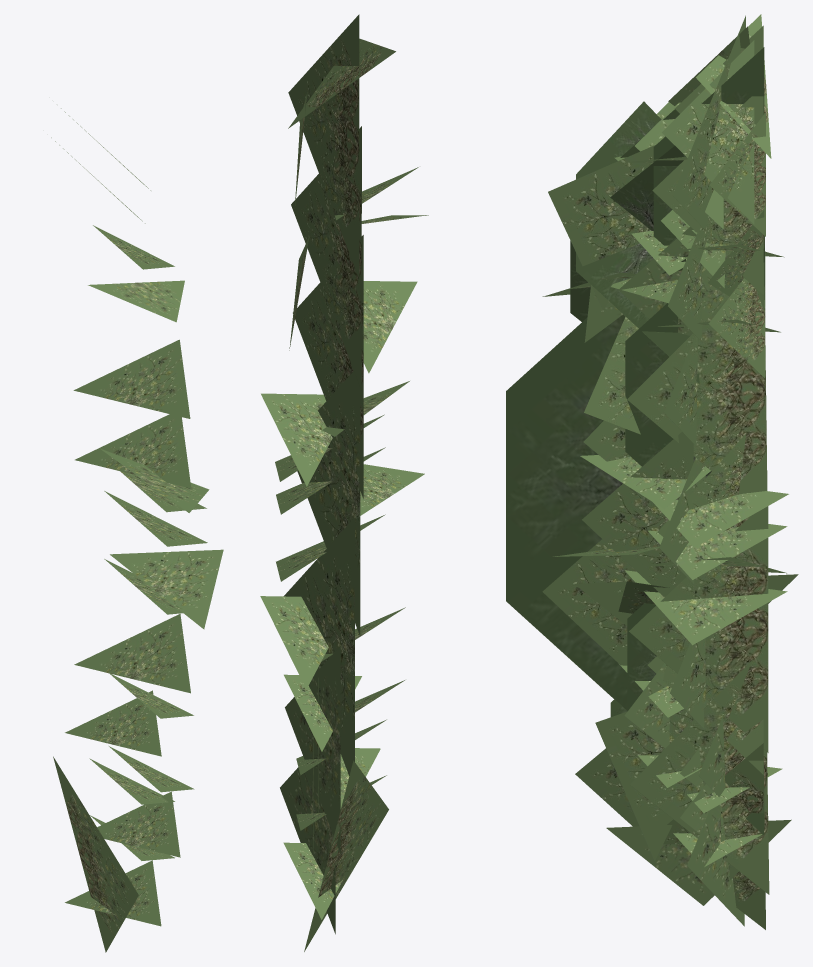
File: caen_hedge_wall_group_1.glb
The picture shows the model from 3 angles, left to right: view 1: azimuth 30°, elevation 25°; view 2: azimuth 150°, elevation 25°; view 3: azimuth 270°, elevation 25°; orthographic projection. The views are drawn at different scales.
Size of the model in its own units: 171 by 918 by 266.
Materials: 1 (1 with a texture image).
